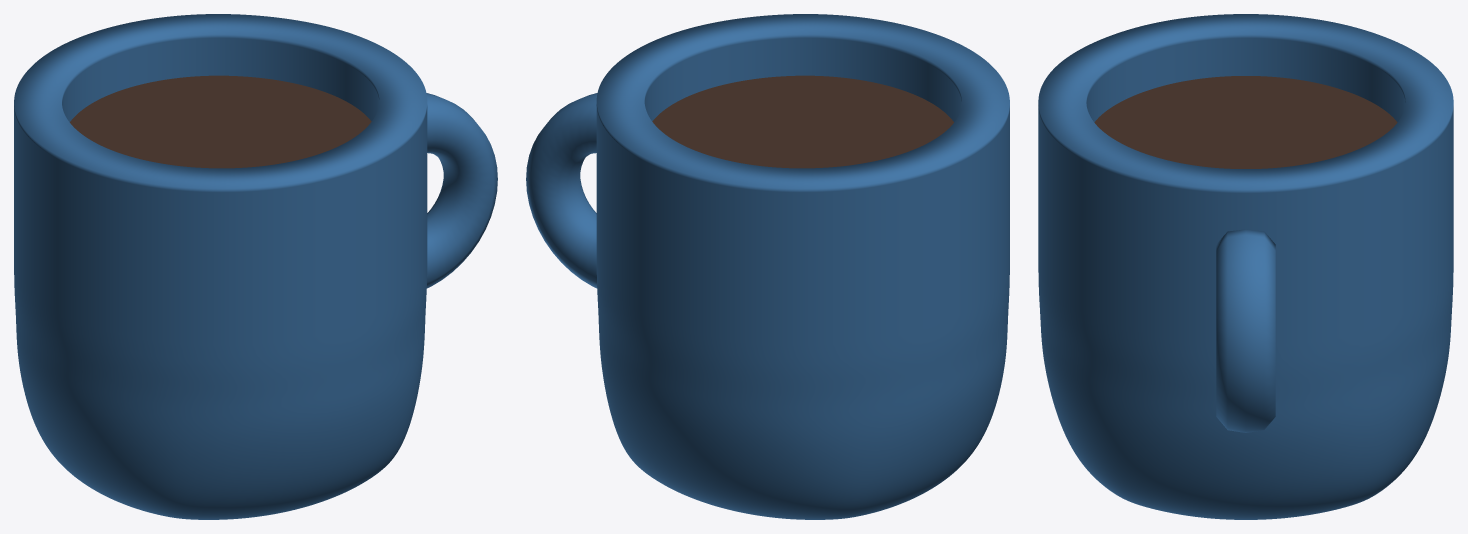
Rendered from coffee.glb.
3 renders of one model, left to right at view 1: azimuth 30°, elevation 25°; view 2: azimuth 150°, elevation 25°; view 3: azimuth 270°, elevation 25°, orthographic.
Parts seen in each view (by area): view 1: Cup, Coffe, handle; view 2: Cup, Coffe, handle; view 3: Cup, Coffe, handle.
Boxes of the visible parts, x1,y1,x2,y2 form: Cup: (14,14,427,519); Coffe: (70,75,371,168); handle: (426,93,497,288); Cup: (596,14,1009,519); Coffe: (652,75,953,168); handle: (526,93,597,288); Cup: (1038,14,1453,519); Coffe: (1094,76,1397,168); handle: (1216,229,1275,432).
Size of the model in its own units: 2.5 by 1.99 by 1.99.
